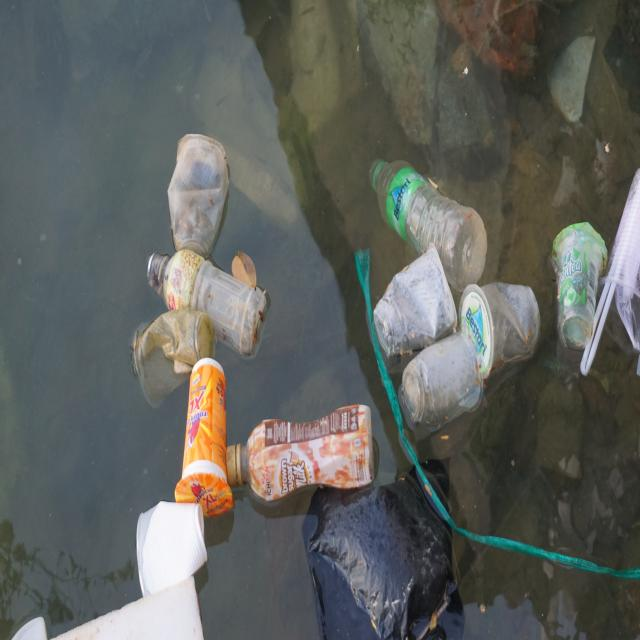Botol Plastik: (225, 404, 379, 511), (366, 150, 485, 284), (146, 244, 274, 355)
Bungkus Minuman: (174, 362, 237, 521), (372, 243, 459, 358), (399, 324, 487, 432), (170, 122, 233, 268), (132, 308, 218, 411), (461, 273, 538, 381), (550, 217, 607, 360), (133, 497, 210, 601)
Kantong Plastik: (304, 474, 467, 640)
